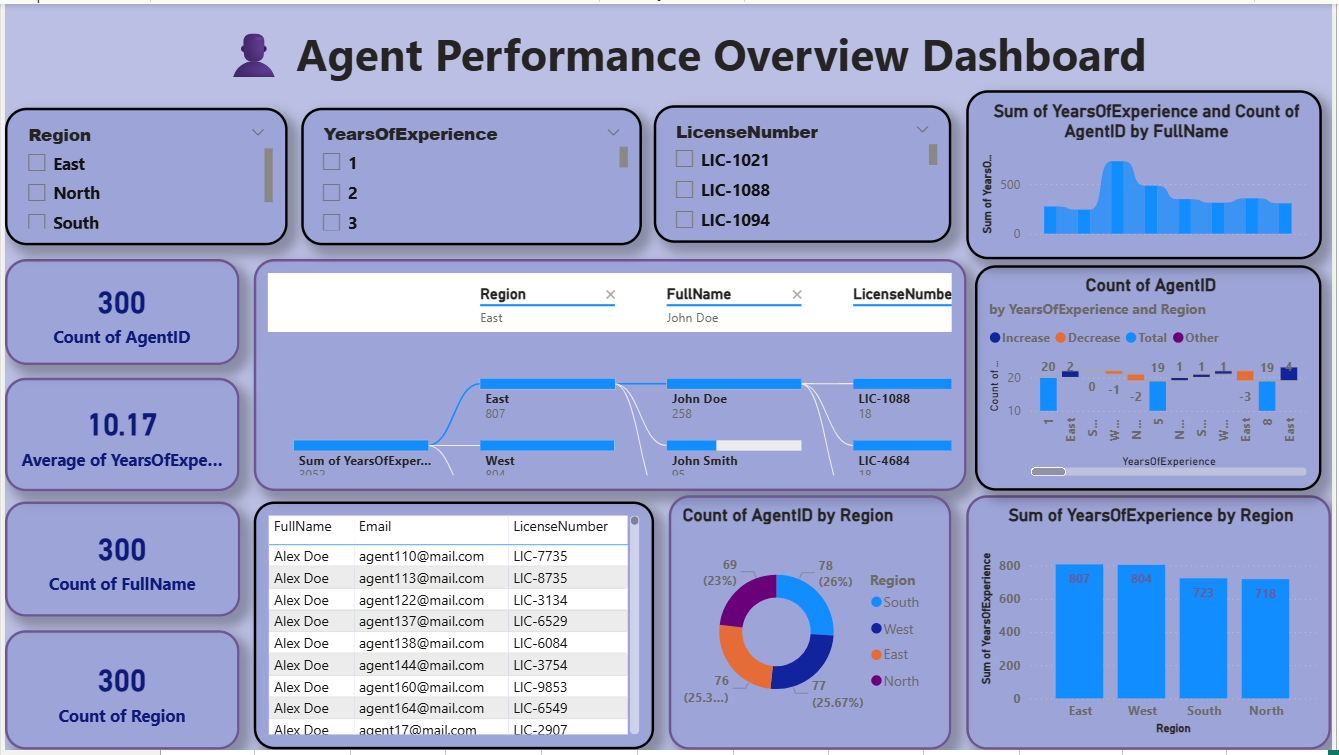

What the dashboard file says about the page in this screenshot:
{"tool":"powerbi","page":{"name":"Page 5","canvas":[1280,720],"ordinal":4},"visuals":[{"type":"card","fields":{"Values":["CountNonNull(Agents.AgentID)"]},"box":[0,246.7,226.5,102.4],"z":0},{"type":"card","fields":{"Values":["Avg(Agents.YearsOfExperience)"]},"box":[0,360.7,226.5,109.6],"z":1},{"type":"card","fields":{"Values":["CountNonNull(Agents.FullName)"]},"box":[0,483.3,226.5,111.1],"z":2},{"type":"card","fields":{"Values":["CountNonNull(Agents.Region)"]},"box":[0,604.5,226.5,115.4],"z":3},{"type":"decompositionTreeVisual","fields":{"Analyze":["Sum(Agents.YearsOfExperience)"],"ExplainBy":["Agents.Region","Agents.FullName","Agents.LicenseNumber"]},"box":[239.5,246.7,688.2,223.6],"z":4},{"type":"clusteredColumnChart","fields":{"Category":["Agents.Region"],"Y":["Sum(Agents.YearsOfExperience)"]},"box":[927.7,474.7,352,245.3],"z":5},{"type":"tableEx","fields":{"Values":["Agents.FullName","Agents.Email","Agents.LicenseNumber"]},"box":[239.5,480.4,386.7,239.5],"z":6},{"type":"donutChart","fields":{"Category":["Agents.Region"],"Y":["CountNonNull(Agents.AgentID)"]},"box":[640.6,474.7,272.7,245.3],"z":7},{"type":"textbox","box":[99.6,13,1112.4,85.1],"z":8},{"type":"waterfallChart","fields":{"Breakdown":["Agents.Region"],"Category":["Agents.YearsOfExperience"],"Y":["CountNonNull(Agents.AgentID)"]},"box":[936.4,252.5,334.7,217.9],"z":9},{"type":"ribbonChart","fields":{"Category":["Agents.FullName","Agents.Region"],"Y":["Sum(Agents.YearsOfExperience)"]},"box":[927.7,83.7,343.4,163],"z":10},{"type":"slicer","fields":{"Values":["Agents.Region"]},"box":[0,99.6,272.7,132.7],"z":11},{"type":"slicer","fields":{"Values":["Agents.YearsOfExperience"]},"box":[285.7,99.6,328.9,132.7],"z":12},{"type":"slicer","fields":{"Values":["Agents.LicenseNumber"]},"box":[626.2,98.1,287.1,132.7],"z":13}]}

Visuals, with their boxes in screenshot pixels (x1, y1, x2, y2), scaled from the page's 1280x720 canvas onto the 1339x755 screenshot:
card - CountNonNull(Agents.AgentID): {"x1": 0, "y1": 259, "x2": 237, "y2": 366}
card - Avg(Agents.YearsOfExperience): {"x1": 0, "y1": 378, "x2": 237, "y2": 493}
card - CountNonNull(Agents.FullName): {"x1": 0, "y1": 507, "x2": 237, "y2": 623}
card - CountNonNull(Agents.Region): {"x1": 0, "y1": 634, "x2": 237, "y2": 754}
decompositionTreeVisual - Sum(Agents.YearsOfExperience) x Agents.Region: {"x1": 251, "y1": 259, "x2": 970, "y2": 493}
clusteredColumnChart - Agents.Region x Sum(Agents.YearsOfExperience): {"x1": 970, "y1": 498, "x2": 1338, "y2": 754}
tableEx - Agents.FullName x Agents.Email: {"x1": 251, "y1": 504, "x2": 655, "y2": 754}
donutChart - Agents.Region x CountNonNull(Agents.AgentID): {"x1": 670, "y1": 498, "x2": 955, "y2": 754}
textbox: {"x1": 104, "y1": 14, "x2": 1268, "y2": 103}
waterfallChart - Agents.Region x Agents.YearsOfExperience: {"x1": 980, "y1": 265, "x2": 1330, "y2": 493}
ribbonChart - Agents.FullName x Agents.Region: {"x1": 970, "y1": 88, "x2": 1330, "y2": 259}
slicer - Agents.Region: {"x1": 0, "y1": 104, "x2": 285, "y2": 244}
slicer - Agents.YearsOfExperience: {"x1": 299, "y1": 104, "x2": 643, "y2": 244}
slicer - Agents.LicenseNumber: {"x1": 655, "y1": 103, "x2": 955, "y2": 242}
